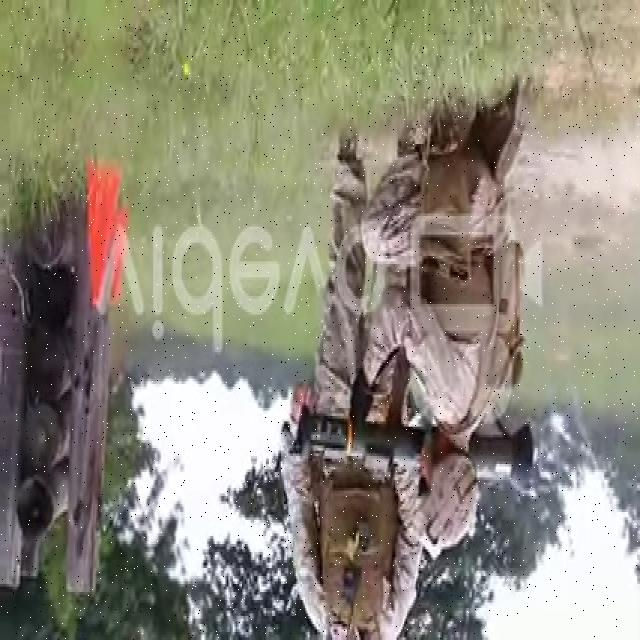bazooka: (293, 402, 537, 499)
